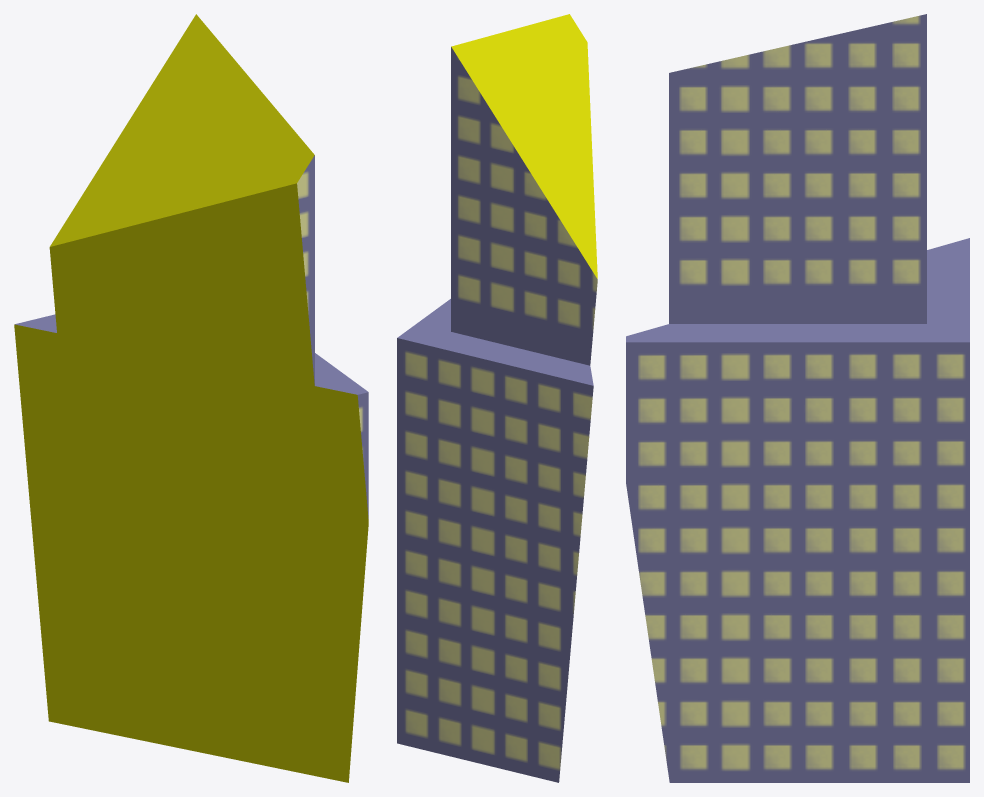
The model's file is CB1Shard3.fbx.
The picture shows the model from 3 angles, left to right: view 1: azimuth 30°, elevation 25°; view 2: azimuth 150°, elevation 25°; view 3: azimuth 270°, elevation 25°; orthographic projection. The views are drawn at different scales.
Parts seen in each view (by area): view 1: shard9; view 2: shard9; view 3: shard9.
Boxes of the visible parts, x1,y1,x2,y2 form: shard9: (14,14,368,782); shard9: (397,14,597,782); shard9: (626,14,969,782).
Size of the model in its own units: 0.0684 by 0.2297 by 0.0953.
2 materials, 1 textured.
